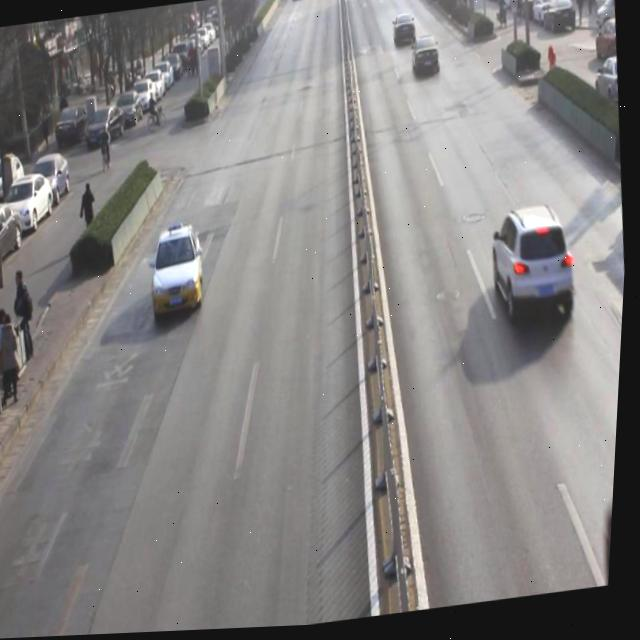car: (488, 206, 586, 337), (150, 220, 212, 323), (411, 41, 445, 84), (392, 15, 419, 51)
